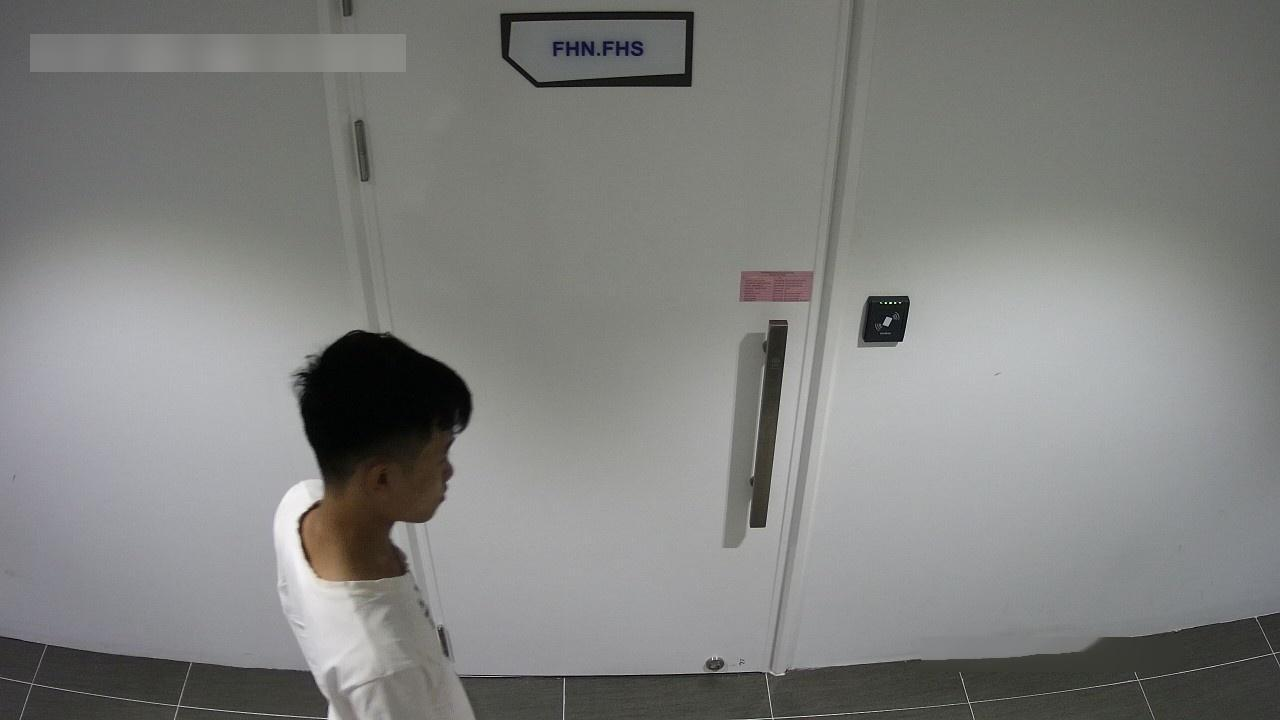no_gloves: (293, 323, 487, 518)
no_hairnet: (382, 412, 467, 530)
